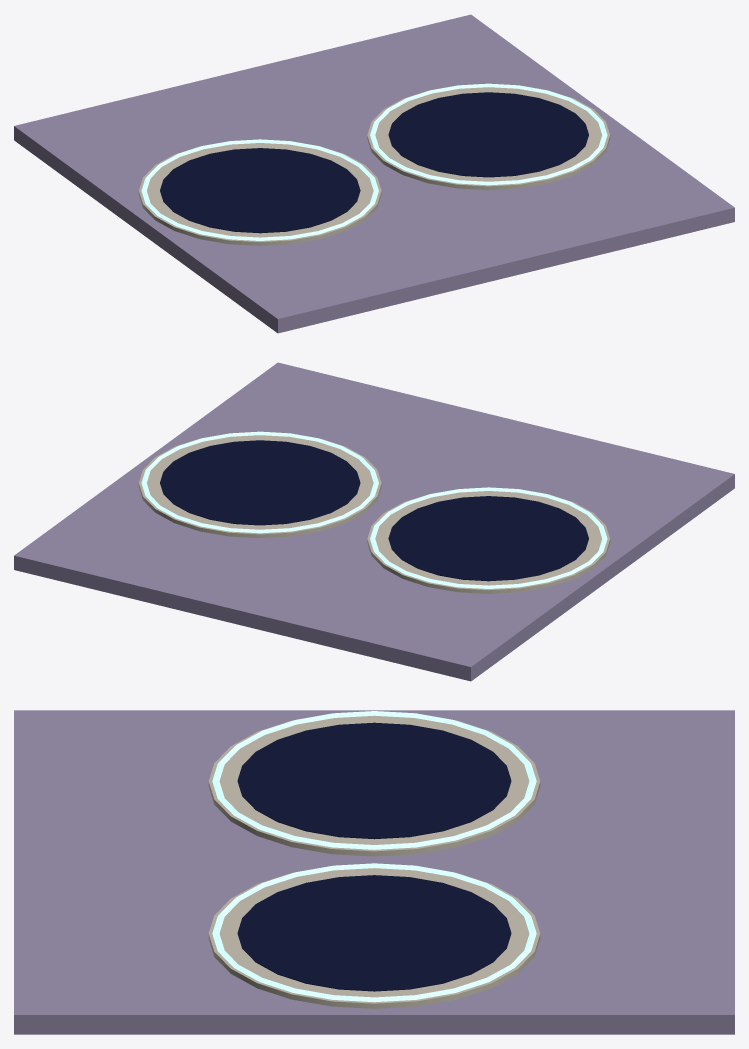
The model's file is parking_pads.glb.
3 views of the same model, one above another, from view 1: azimuth 30°, elevation 25°; view 2: azimuth 150°, elevation 25°; view 3: azimuth 270°, elevation 25° (orthographic). The views are drawn at different scales.
Visible parts, largest first — view 1: parking_pads; view 2: parking_pads; view 3: parking_pads.
Part boxes in pixels (x1=…): parking_pads: x1=14, y1=14, x2=734, y2=333; parking_pads: x1=14, y1=362, x2=734, y2=681; parking_pads: x1=14, y1=710, x2=734, y2=1034.
Size of the model in its own units: 10 by 0.43 by 10.
